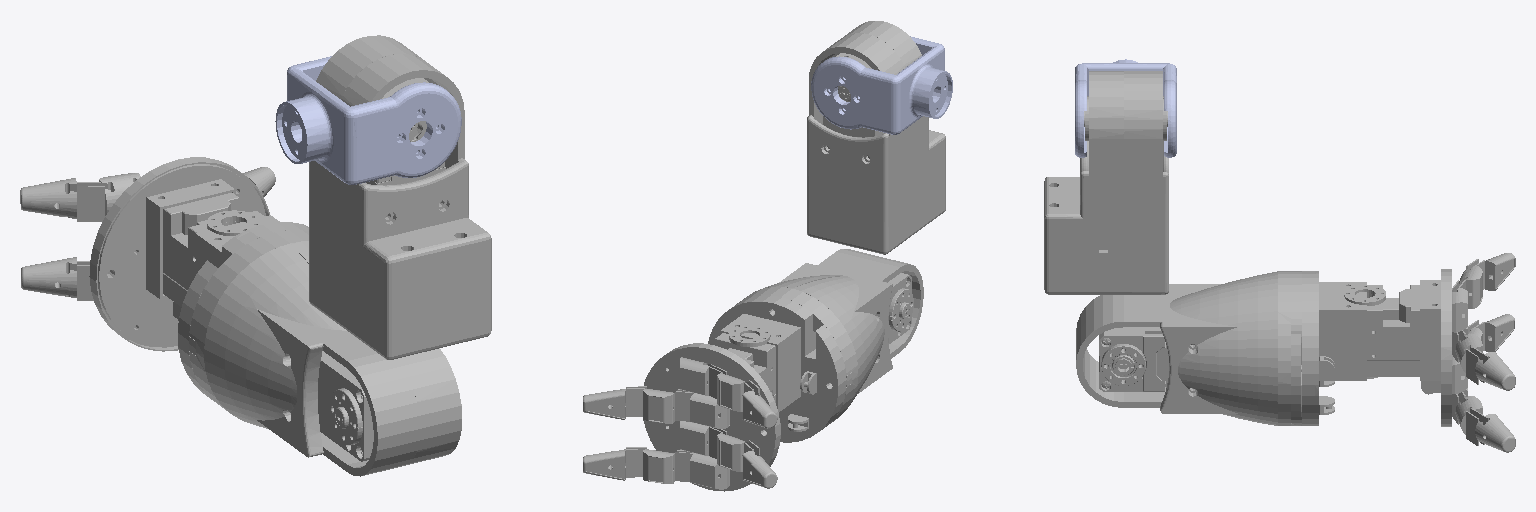
robot.urdf — right:
<?xml version="1.0" encoding="utf-8"?>
<!-- This URDF was automatically created by SolidWorks to URDF Exporter! Originally created by [author] ([email redacted]) 
     Commit Version: 1.6.0-4-g7f85cfe  Build Version: 1.6.7995.38578
     For more information, please see http://wiki.ros.org/sw_urdf_exporter -->
<robot
  name="right">
  
  
  
  
  
  <link
    name="base_link">
    <inertial>
      <origin
        xyz="0.000333168231091419 -0.0490077134325242 0.105556739128517"
        rpy="0 0 0" />
      <mass
        value="0.43756889593348" />
      <inertia
        ixx="0.000780173945392211"
        ixy="1.72547696446317E-06"
        ixz="-8.11722846382749E-08"
        iyy="0.000825842165328829"
        iyz="4.67151417985947E-05"
        izz="0.000643183765667985" />
    </inertial>
    <visual>
      <origin
        xyz="0 0 0"
        rpy="0 0 0" />
      <geometry>
        <mesh
          filename="package://right/meshes/base_link.STL" />
      </geometry>
      <material
        name="">
        <color
          rgba="1 1 1 1" />
      </material>
    </visual>
    <collision>
      <origin
        xyz="0 0 0"
        rpy="0 0 0" />
      <geometry>
        <mesh
          filename="package://right/meshes/base_link.STL" />
      </geometry>
    </collision>
  </link>
  <link
    name="right_up_joint">
    <inertial>
      <origin
        xyz="5.09595476927416E-10 7.24041410160581E-10 -0.0157092653420776"
        rpy="0 0 0" />
      <mass
        value="0.0208133468453592" />
      <inertia
        ixx="6.27974968154286E-06"
        ixy="-1.32343047844373E-11"
        ixz="8.95773786943948E-14"
        iyy="1.11423800240112E-05"
        iyz="1.27944084403299E-13"
        izz="8.2135527700594E-06" />
    </inertial>
    <visual>
      <origin
        xyz="0 0 0"
        rpy="0 0 0" />
      <geometry>
        <mesh
          filename="package://right/meshes/right_up_joint.STL" />
      </geometry>
      <material
        name="">
        <color
          rgba="0.792156862745098 0.819607843137255 0.933333333333333 1" />
      </material>
    </visual>
    <collision>
      <origin
        xyz="0 0 0"
        rpy="0 0 0" />
      <geometry>
        <mesh
          filename="package://right/meshes/right_up_joint.STL" />
      </geometry>
    </collision>
  </link>
  <joint
    name="r1"
    type="revolute">
    <origin
      xyz="0.093361 -0.051062 0.13081"
      rpy="1.5708 0 1.5708" />
    <parent
      link="base_link" />
    <child
      link="right_up_joint" />
    <axis
      xyz="0 0 1" />
    <limit
      lower="-3.14"
      upper="3.14"
      effort="100"
      velocity="1" />
  </joint>
  <link
    name="right_up_arm">
    <inertial>
      <origin
        xyz="0.0373903260955437 6.01721482874629E-05 -0.00541151025560815"
        rpy="0 0 0" />
      <mass
        value="0.142004365290478" />
      <inertia
        ixx="3.19807239576317E-05"
        ixy="-4.35320002639338E-08"
        ixz="2.24405433812147E-06"
        iyy="6.16421105939795E-05"
        iyz="9.81629533545382E-10"
        izz="6.84742764155626E-05" />
    </inertial>
    <visual>
      <origin
        xyz="0 0 0"
        rpy="0 0 0" />
      <geometry>
        <mesh
          filename="package://right/meshes/right_up_arm.STL" />
      </geometry>
      <material
        name="">
        <color
          rgba="0.752941176470588 0.752941176470588 0.752941176470588 1" />
      </material>
    </visual>
    <collision>
      <origin
        xyz="0 0 0"
        rpy="0 0 0" />
      <geometry>
        <mesh
          filename="package://right/meshes/right_up_arm.STL" />
      </geometry>
    </collision>
  </link>
  <joint
    name="r2"
    type="revolute">
    <origin
      xyz="0 0 0"
      rpy="-1.5708 0 -1.5708" />
    <parent
      link="right_up_joint" />
    <child
      link="right_up_arm" />
    <axis
      xyz="0 0 -1" />
    <limit
      lower="-3.14"
      upper="3.14"
      effort="100"
      velocity="1" />
  </joint>
  <link
    name="right_low_joint">
    <inertial>
      <origin
        xyz="5.09595032838206E-10 7.24041260974362E-10 -0.0157092653420775"
        rpy="0 0 0" />
      <mass
        value="0.0208133468453592" />
      <inertia
        ixx="6.27974968154287E-06"
        ixy="-1.32343047943893E-11"
        ixz="8.95773980905949E-14"
        iyy="1.11423800240113E-05"
        iyz="1.27944096508203E-13"
        izz="8.21355277005941E-06" />
    </inertial>
    <visual>
      <origin
        xyz="0 0 0"
        rpy="0 0 0" />
      <geometry>
        <mesh
          filename="package://right/meshes/right_low_joint.STL" />
      </geometry>
      <material
        name="">
        <color
          rgba="0.792156862745098 0.819607843137255 0.933333333333333 1" />
      </material>
    </visual>
    <collision>
      <origin
        xyz="0 0 0"
        rpy="0 0 0" />
      <geometry>
        <mesh
          filename="package://right/meshes/right_low_joint.STL" />
      </geometry>
    </collision>
  </link>
  <joint
    name="r3"
    type="revolute">
    <origin
      xyz="0.117 0 -0.001"
      rpy="-1.5708 -3.1416 -1.5708" />
    <parent
      link="right_up_arm" />
    <child
      link="right_low_joint" />
    <axis
      xyz="0 0 1" />
    <limit
      lower="-3.14"
      upper="3.14"
      effort="100"
      velocity="1" />
  </joint>
  <link
    name="right_low_arm">
    <inertial>
      <origin
        xyz="0.000145349481929017 0.048119627739288 0.000141021295785637"
        rpy="0 0 0" />
      <mass
        value="0.18903364369622" />
      <inertia
        ixx="8.21074310058178E-05"
        ixy="3.38641336425118E-07"
        ixz="5.51403520464925E-07"
        iyy="7.6979741225698E-05"
        iyz="-3.25828337646955E-09"
        izz="0.000103326261719523" />
    </inertial>
    <visual>
      <origin
        xyz="0 0 0"
        rpy="0 0 0" />
      <geometry>
        <mesh
          filename="package://right/meshes/right_low_arm.STL" />
      </geometry>
      <material
        name="">
        <color
          rgba="0.752941176470588 0.752941176470588 0.752941176470588 1" />
      </material>
    </visual>
    <collision>
      <origin
        xyz="0 0 0"
        rpy="0 0 0" />
      <geometry>
        <mesh
          filename="package://right/meshes/right_low_arm.STL" />
      </geometry>
    </collision>
  </link>
  <joint
    name="r4"
    type="revolute">
    <origin
      xyz="0 0 0"
      rpy="0 -1.5708 0" />
    <parent
      link="right_low_joint" />
    <child
      link="right_low_arm" />
    <axis
      xyz="0 0 -1" />
    <limit
      lower="-3.14"
      upper="3.14"
      effort="100"
      velocity="1" />
  </joint>
  <link
    name="right_gripper">
    <inertial>
      <origin
        xyz="0.00394028289478416 0.000648626674701447 -0.0216328066989442"
        rpy="0 0 0" />
      <mass
        value="0.103299324219439" />
      <inertia
        ixx="2.0963004369683E-05"
        ixy="2.90752267814508E-08"
        ixz="-3.12167035365808E-07"
        iyy="1.89319959235232E-05"
        iyz="1.75561004581702E-08"
        izz="2.33522908570637E-05" />
    </inertial>
    <visual>
      <origin
        xyz="0 0 0"
        rpy="0 0 0" />
      <geometry>
        <mesh
          filename="package://right/meshes/right_gripper.STL" />
      </geometry>
      <material
        name="">
        <color
          rgba="0.752941176470588 0.752941176470588 0.752941176470588 1" />
      </material>
    </visual>
    <collision>
      <origin
        xyz="0 0 0"
        rpy="0 0 0" />
      <geometry>
        <mesh
          filename="package://right/meshes/right_gripper.STL" />
      </geometry>
    </collision>
  </link>
  <joint
    name="r5"
    type="fixed">
    <origin
      xyz="-0.00025 0.15114 -0.0005"
      rpy="1.5708 0 -3.1416" />
    <parent
      link="right_low_arm" />
    <child
      link="right_gripper" />
    <axis
      xyz="0 0 0" />
  </joint>
  
  
    <transmission name="right_up_joint_trans">
	<type>transmission_interface/SimpleTransmission</type>
	<joint name="r1">
		<hardwareInterface>hardware_interface/PositionJointInterface</hardwareInterface>
	</joint>
	<actuator name="right_up_joint_motor">
		<hardwareInterface>hardware_interface/PositionJointInterface</hardwareInterface>
		<mechanicalReduction>1</mechanicalReduction>
	</actuator>
  </transmission>
  
  <transmission name="right_up_arm_trans">
	<type>transmission_interface/SimpleTransmission</type>
	<joint name="r2">
		<hardwareInterface>hardware_interface/PositionJointInterface</hardwareInterface>
	</joint>
	<actuator name="right_up_arm_motor">
		<hardwareInterface>hardware_interface/PositionJointInterface</hardwareInterface>
		<mechanicalReduction>1</mechanicalReduction>
	</actuator>
  </transmission>
  
  <transmission name="right_low_joint_trans">
	<type>transmission_interface/SimpleTransmission</type>
	<joint name="r3">
		<hardwareInterface>hardware_interface/PositionJointInterface</hardwareInterface>
	</joint>
	<actuator name="right_low_joint_motor">
		<hardwareInterface>hardware_interface/PositionJointInterface</hardwareInterface>
		<mechanicalReduction>1</mechanicalReduction>
	</actuator>
  </transmission>
  
  <transmission name="right_low_arm_trans">
	<type>transmission_interface/SimpleTransmission</type>
	<joint name="r4">
		<hardwareInterface>hardware_interface/PositionJointInterface</hardwareInterface>
	</joint>
	<actuator name="right_low_arm_motor">
		<hardwareInterface>hardware_interface/PositionJointInterface</hardwareInterface>
		<mechanicalReduction>1</mechanicalReduction>
	</actuator>
  </transmission>  
  

  
  <gazebo>
	<plugin name="control" filename="libgazebo_ros_control.so">
		<robotNamespace>/</robotNamespace>
	</plugin>
  </gazebo>
  
  <gazebo reference="right_up_joint">
	<selfCollide>true</selfCollide>
  </gazebo>

  <gazebo reference="right_up_arm">
	<selfCollide>true</selfCollide>
  </gazebo>
  
  <gazebo reference="right_low_joint">
	<selfCollide>true</selfCollide>
  </gazebo>
  
  <gazebo reference="right_low_arm">
	<selfCollide>true</selfCollide>
  </gazebo>
  
</robot>

--- Render facts (derived) ---
3 views of the same robot in one strip: view 1: azimuth 30°, elevation 25°; view 2: azimuth 150°, elevation 25°; view 3: azimuth 270°, elevation 25° (orthographic).
Robot: right — 6 links, 5 joints (4 revolute, 1 fixed); root link base_link; default pose: every joint at zero.
Visible links, largest first — view 1: right_low_arm, right_up_arm, right_gripper, right_up_joint; view 2: right_gripper, right_up_arm, right_low_arm, right_up_joint; view 3: right_low_arm, right_up_arm, right_gripper, right_up_joint.
Link boxes in pixels (box(x1,y1,x2,y2)): right_low_arm: box(180, 224, 461, 476); right_up_arm: box(309, 35, 491, 359); right_gripper: box(20, 157, 307, 393); right_up_joint: box(275, 56, 461, 184); right_gripper: box(583, 300, 839, 491); right_up_arm: box(807, 21, 945, 254); right_low_arm: box(729, 249, 923, 429); right_up_joint: box(811, 36, 952, 134); right_low_arm: box(1076, 271, 1314, 425); right_up_arm: box(1044, 71, 1168, 294); right_gripper: box(1315, 253, 1515, 452); right_up_joint: box(1075, 59, 1176, 157).
Bounding box of the posed robot: 0.1052 × 0.2171 × 0.1753 m (x, y, z).
Meshes: 6 distinct files referenced, 4 mesh visuals loaded (4 binary STL); not drawn: 2 (reference not matched to a file when rendering).